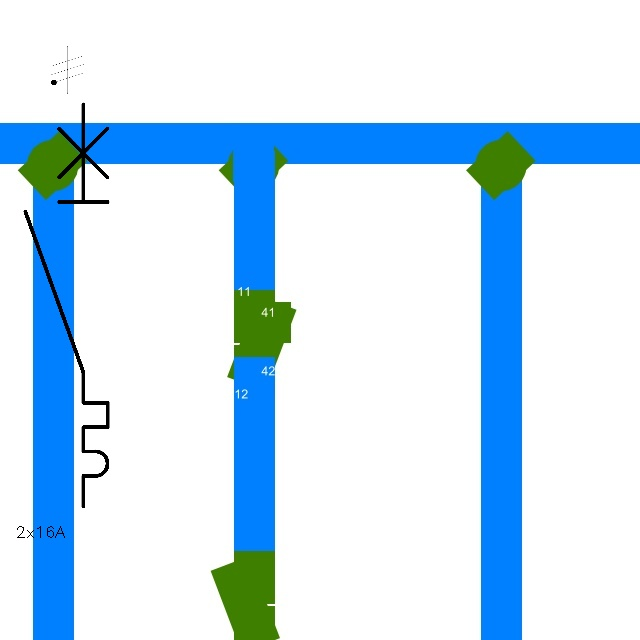interruptor_termomagnetico: (15, 93, 118, 516)
